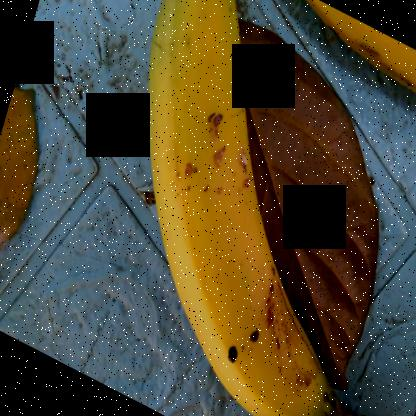ripe: (108, 1, 330, 413)
